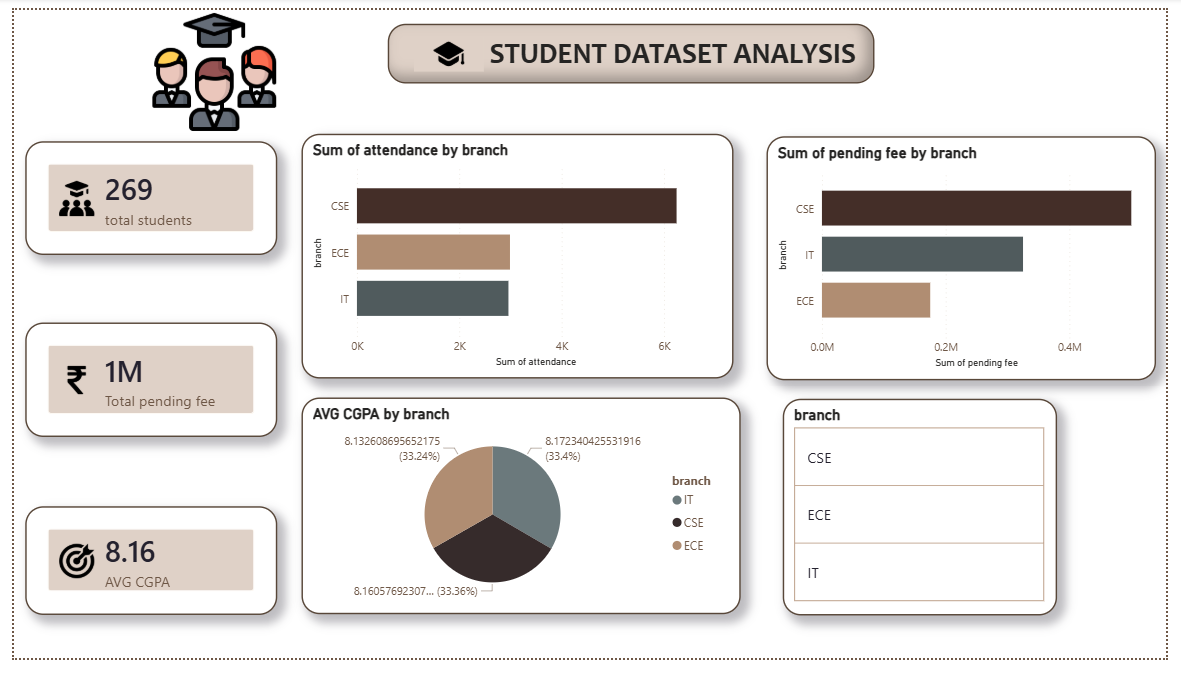

This screenshot's page, from the dashboard's own definition file:
{"tool":"powerbi","page":{"name":"Page 1","canvas":[1280,720],"ordinal":0},"visuals":[{"type":"cardVisual","fields":{"Data":["Dirty_Student_Analytics_800.AVG CGPA"]},"box":[12.4,551,280,120.8],"z":0},{"type":"cardVisual","fields":{"Data":["Dirty_Student_Analytics_800.Total pending fee"]},"box":[12.4,347.8,280,127.6],"z":1000},{"type":"advancedSlicerVisual","fields":{"Values":["Dirty_Student_Analytics_800.branch"]},"box":[854.8,431.3,304.9,240.5],"z":2000},{"type":"barChart","fields":{"Category":["Dirty_Student_Analytics_800.branch"],"Y":["Sum(Dirty_Student_Analytics_800.attendance)"]},"box":[319.6,137.8,479.9,272.1],"z":3000},{"type":"barChart","fields":{"Category":["Dirty_Student_Analytics_800.branch"],"Y":["Sum(Dirty_Student_Analytics_800.pending fee)"]},"box":[836.1,141,432.5,271.1],"z":4000},{"type":"textbox","box":[415.5,15.8,540.9,66.6],"z":5000},{"type":"pieChart","fields":{"Y":["Dirty_Student_Analytics_800.AVG CGPA"],"Category":["Dirty_Student_Analytics_800.branch"]},"box":[319.3,430.1,488,241],"z":6000},{"type":"cardVisual","fields":{"Data":["Dirty_Student_Analytics_800.total students"]},"box":[12.4,145.7,280,126.5],"z":7000},{"type":"image","box":[443.8,29.4,77.9,39.5],"z":8000},{"type":"image","box":[56.5,0,330.8,137.8],"z":9000}]}

Visuals, with their boxes in screenshot pixels (x1, y1, x2, y2), scaled from the page's 1280x720 canvas onto the 1181x673 screenshot:
cardVisual - Dirty_Student_Analytics_800.AVG CGPA: rect(11, 515, 270, 628)
cardVisual - Dirty_Student_Analytics_800.Total pending fee: rect(11, 325, 270, 444)
advancedSlicerVisual - Dirty_Student_Analytics_800.branch: rect(789, 403, 1070, 628)
barChart - Dirty_Student_Analytics_800.branch x Sum(Dirty_Student_Analytics_800.attendance): rect(295, 129, 738, 383)
barChart - Dirty_Student_Analytics_800.branch x Sum(Dirty_Student_Analytics_800.pending fee): rect(771, 132, 1170, 385)
textbox: rect(383, 15, 882, 77)
pieChart - Dirty_Student_Analytics_800.AVG CGPA x Dirty_Student_Analytics_800.branch: rect(295, 402, 745, 627)
cardVisual - Dirty_Student_Analytics_800.total students: rect(11, 136, 270, 254)
image: rect(409, 27, 481, 64)
image: rect(52, 0, 357, 129)
